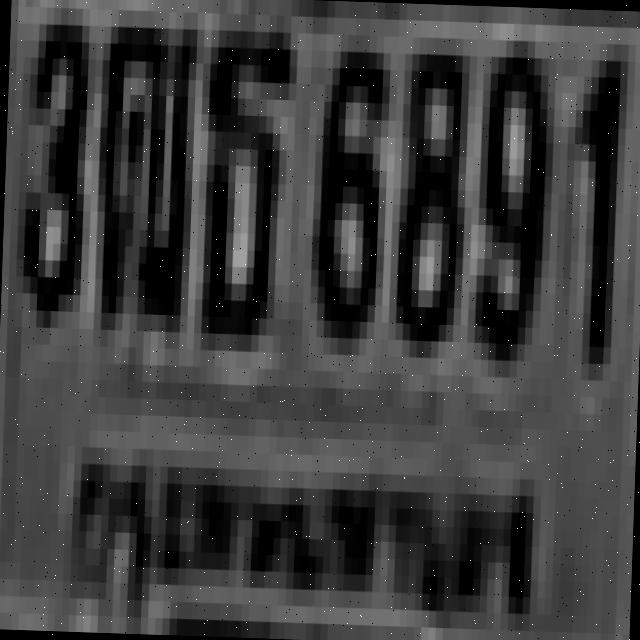1: (567, 43, 621, 347)
27ThorPhuThao: (90, 1, 194, 323)
3: (15, 0, 90, 303)
33ThorThong: (194, 12, 292, 336)
6: (310, 34, 384, 322)
8: (388, 36, 462, 342)
9: (466, 39, 550, 344)
